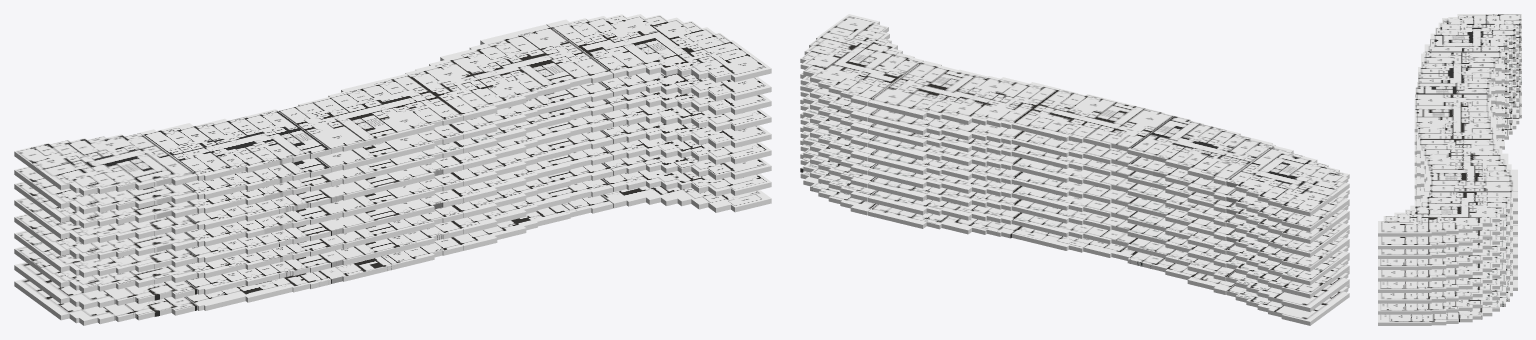
File: plan2d.glb
3 views of the same model, side by side, from view 1: azimuth 30°, elevation 25°; view 2: azimuth 150°, elevation 25°; view 3: azimuth 270°, elevation 25° (orthographic). The views are drawn at different scales.
Visible parts, largest first — view 1: web9.2, web9.1, web9.3, web9.4, web9.5, web8.5, web5.5, web8.1, web1.5, web2.5, web6.5, web4.5 (+33 smaller); view 2: web9.2, web9.1, web9.3, web9.4, web9.5, web8.2, web5.2, web1.2, web2.2, web4.2, web6.2, web3.2 (+33 smaller); view 3: web9.2, web9.1, web9.3, web9.4, web9.5, web8.1, web5.1, web1.1, web2.1, web4.1, web6.1, web3.1 (+14 smaller).
Part boxes in pixels (x1,y1,x2,y2): web9.2: (405, 24, 612, 120); web9.1: (546, 14, 771, 82); web9.3: (279, 74, 463, 153); web9.4: (140, 109, 330, 180); web9.5: (14, 133, 197, 195); web8.5: (14, 166, 197, 214); web5.5: (14, 214, 197, 261); web8.1: (599, 72, 771, 101); web1.5: (14, 278, 197, 325); web2.5: (14, 262, 197, 309); web6.5: (14, 197, 197, 244); web4.5: (14, 230, 197, 277); web9.2: (868, 60, 1059, 128); web9.1: (800, 14, 923, 105); web9.3: (1012, 89, 1173, 151); web9.4: (1127, 115, 1275, 185); web9.5: (1226, 146, 1349, 216); web8.2: (868, 109, 1023, 144); web5.2: (868, 150, 1021, 184); web1.2: (868, 204, 1021, 238); web2.2: (868, 190, 1021, 224); web4.2: (868, 164, 1021, 197); web6.2: (868, 136, 1021, 169); web3.2: (868, 177, 1020, 210); web9.2: (1417, 139, 1517, 191); web9.1: (1378, 191, 1517, 236); web9.3: (1414, 94, 1496, 139); web9.4: (1415, 52, 1504, 97); web9.5: (1424, 14, 1521, 51); web8.1: (1378, 204, 1517, 249); web5.1: (1378, 237, 1517, 281); web1.1: (1378, 281, 1517, 325); web2.1: (1378, 270, 1517, 314); web4.1: (1378, 248, 1517, 292); web6.1: (1378, 225, 1517, 269); web3.1: (1378, 258, 1517, 303).
Bounding box in the file's own units: 2.12 × 0.4176 × 0.5871.
45 materials, 45 textured.
